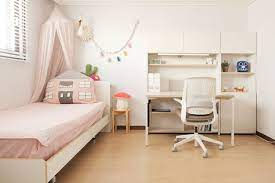Bed: (0, 78, 115, 183)
Chair: (169, 76, 228, 159)
